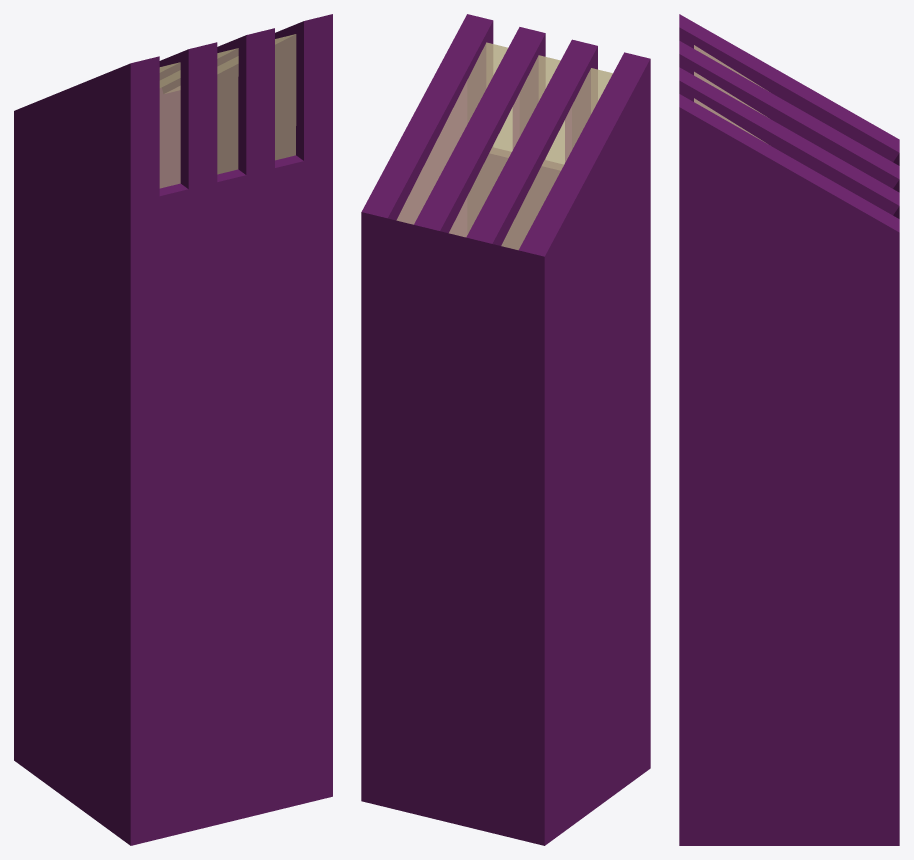
The model's file is Three Wedge Building.fbx.
3 views of the same model, side by side, from view 1: azimuth 30°, elevation 25°; view 2: azimuth 150°, elevation 25°; view 3: azimuth 270°, elevation 25° (orthographic). The views are drawn at different scales.
Parts seen in each view (by area): view 1: Building_three_wedge; view 2: Building_three_wedge; view 3: Building_three_wedge.
Boxes of the visible parts, x1,y1,x2,y2 form: Building_three_wedge: (14,14,332,845); Building_three_wedge: (361,14,650,845); Building_three_wedge: (679,14,899,845).
Bounding box in the file's own units: 20.37 × 75.41 × 20.37.
